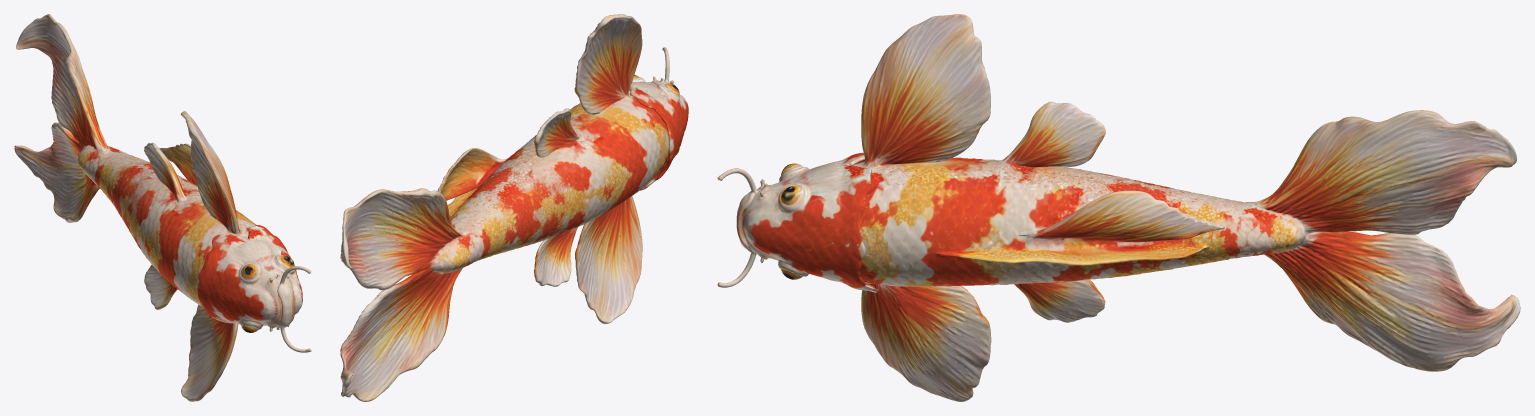
3 renders of one model, left to right at view 1: azimuth 30°, elevation 25°; view 2: azimuth 150°, elevation 25°; view 3: azimuth 270°, elevation 25°, orthographic. The views are drawn at different scales.
Parts seen in each view (by area): view 1: tripo_node_66abe4f6-2871-4d32-a496-b060b8727733; view 2: tripo_node_66abe4f6-2871-4d32-a496-b060b8727733; view 3: tripo_node_66abe4f6-2871-4d32-a496-b060b8727733.
Boxes of the visible parts, x1,y1,x2,y2 form: tripo_node_66abe4f6-2871-4d32-a496-b060b8727733: (14,14,311,401); tripo_node_66abe4f6-2871-4d32-a496-b060b8727733: (340,14,688,401); tripo_node_66abe4f6-2871-4d32-a496-b060b8727733: (717,14,1520,401).
Bounding box in the file's own units: 0.2123 × 0.5216 × 0.9797.
Materials: 1 (1 with a texture image).
